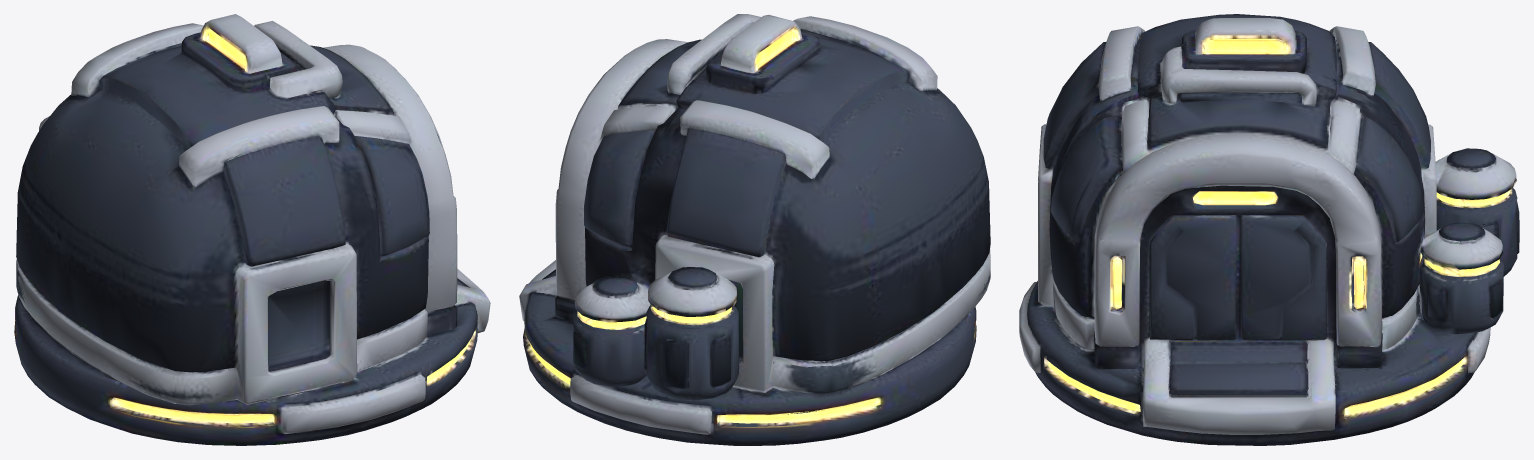
Rendered from building-warehouse-tier-1.glb.
The picture shows the model from 3 angles, left to right: view 1: azimuth 30°, elevation 25°; view 2: azimuth 150°, elevation 25°; view 3: azimuth 270°, elevation 25°; orthographic projection.
Visible parts, largest first — view 1: building-warehouse-tier-1-body; view 2: building-warehouse-tier-1-body; view 3: building-warehouse-tier-1-body.
Boxes of the visible parts, x1,y1,x2,y2 form: building-warehouse-tier-1-body: (14,14,490,445); building-warehouse-tier-1-body: (519,14,990,445); building-warehouse-tier-1-body: (1019,14,1519,445).
Bounding box in the file's own units: 0.9265 × 0.7224 × 1.
Materials: 1 (1 with a texture image).
